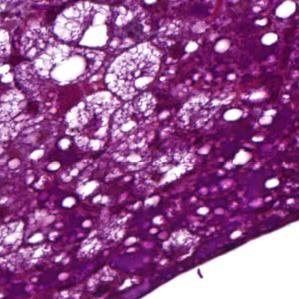ballooning: (59, 88, 126, 157), (103, 40, 162, 103), (52, 3, 114, 50)
